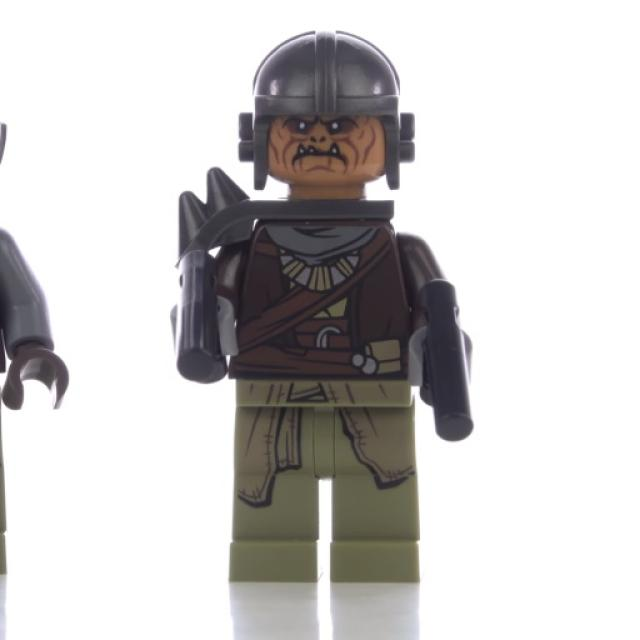Lego-Minifigures: (150, 22, 494, 604)
